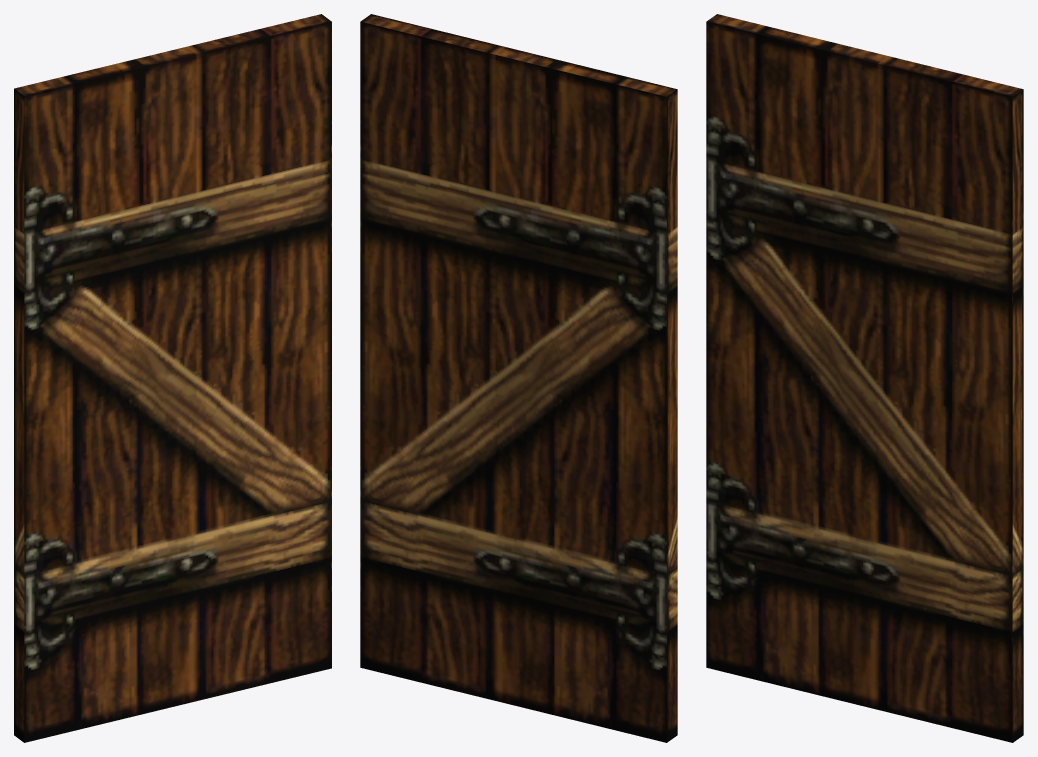
Rendered from LAKETOWN_WAREHOUSE3_ANIM_WH3_DOORS_31__AI.fbx.
3 views of the same model, side by side, from view 1: azimuth 30°, elevation 25°; view 2: azimuth 150°, elevation 25°; view 3: azimuth 330°, elevation 25° (orthographic).
Parts seen in each view (by area): view 1: LAKETOWN_WAREHOUSE3_ANIM_WH3_DOORS_31__AI; view 2: LAKETOWN_WAREHOUSE3_ANIM_WH3_DOORS_31__AI; view 3: LAKETOWN_WAREHOUSE3_ANIM_WH3_DOORS_31__AI.
Boxes of the visible parts, x1,y1,x2,y2 form: LAKETOWN_WAREHOUSE3_ANIM_WH3_DOORS_31__AI: (14,14,331,742); LAKETOWN_WAREHOUSE3_ANIM_WH3_DOORS_31__AI: (360,14,677,742); LAKETOWN_WAREHOUSE3_ANIM_WH3_DOORS_31__AI: (706,14,1023,742).
Bounding box in the file's own units: 13649 × 27437 × 847.
Materials: 1 (1 with a texture image).
